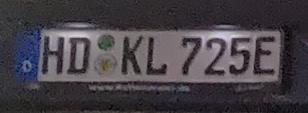2: (203, 35, 227, 77)
5: (228, 35, 252, 76)
7: (179, 35, 202, 77)
D: (67, 34, 91, 75)
E: (252, 34, 276, 76)
H: (41, 34, 65, 75)
K: (120, 34, 143, 75)
L: (145, 34, 169, 76)
